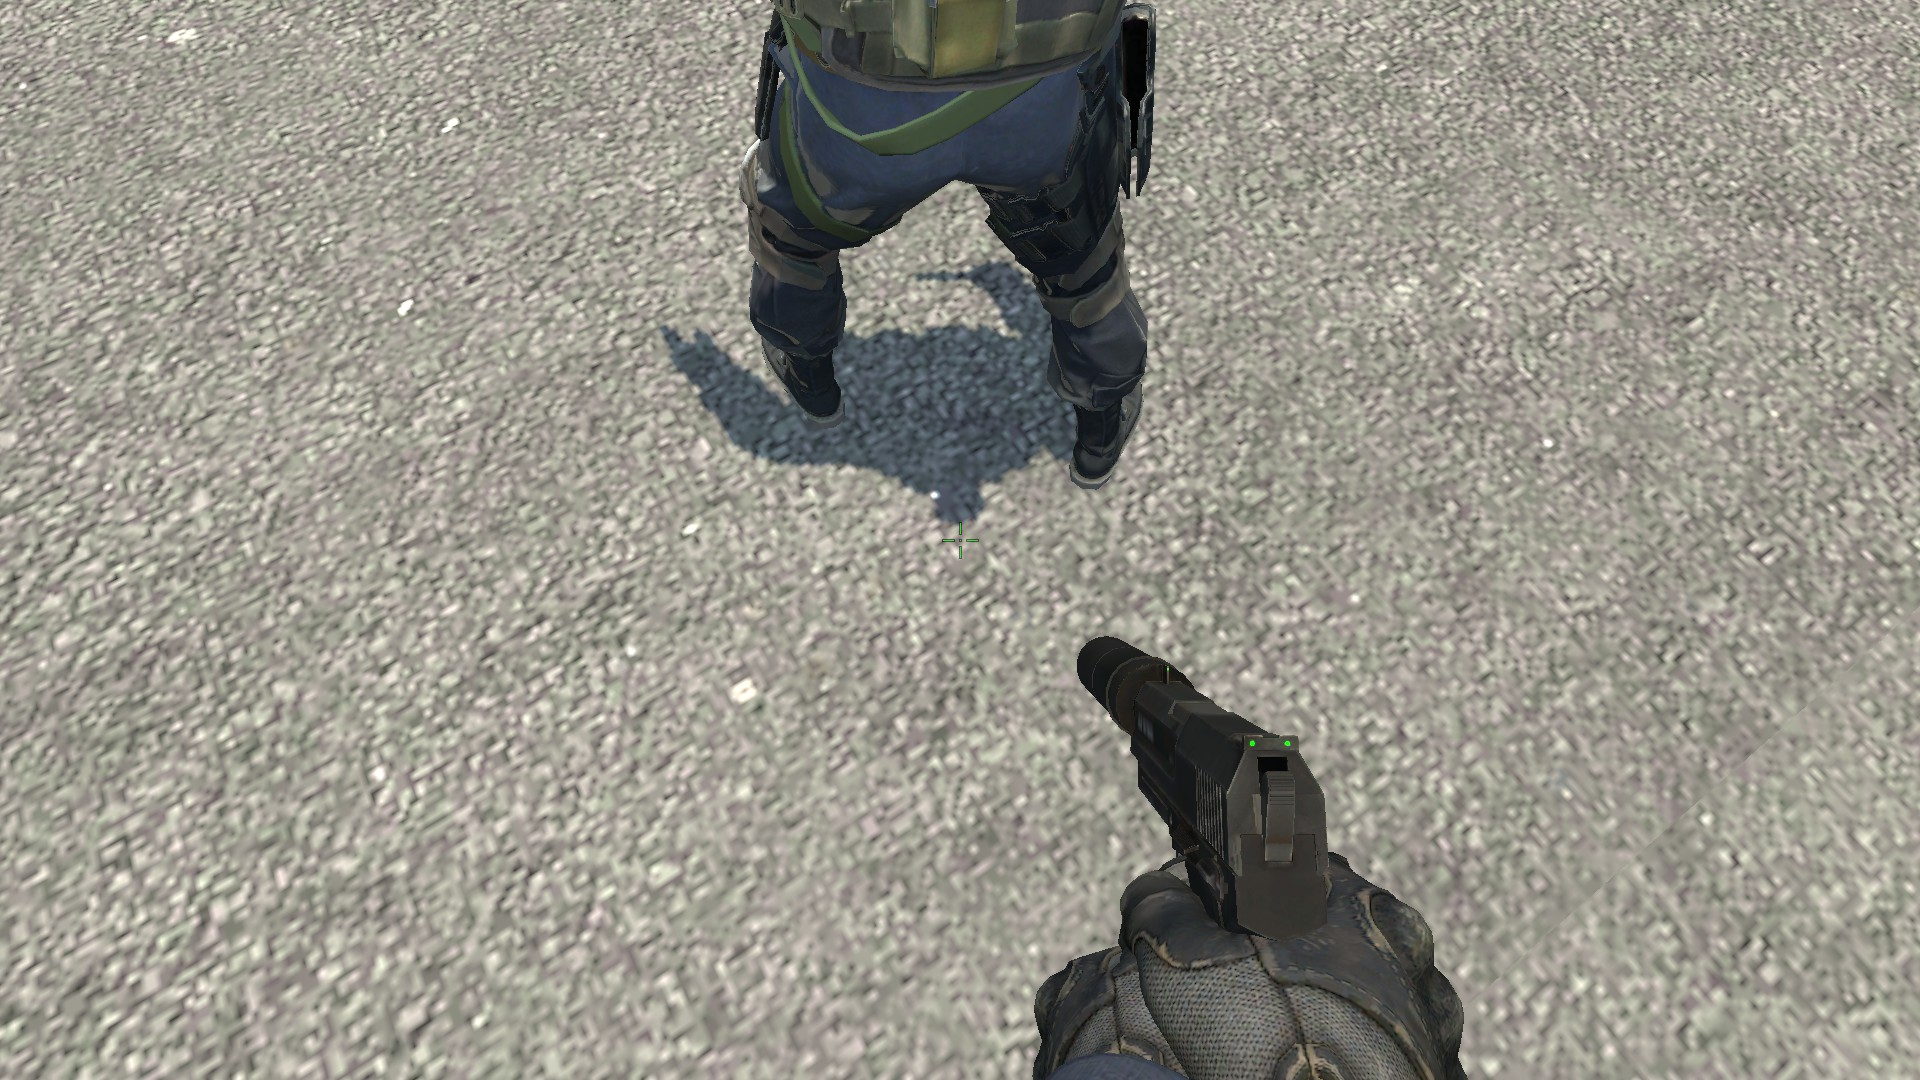ct: (735, 1, 1164, 491)
